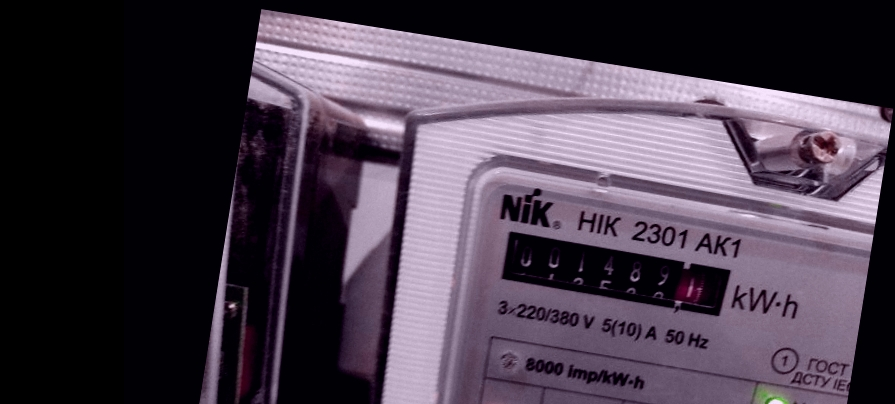0: (517, 241, 536, 268), (545, 241, 564, 268)
1: (573, 245, 591, 276), (682, 268, 699, 300)
4: (600, 250, 620, 278)
8: (625, 254, 646, 283)
9: (654, 261, 673, 288)
screen: (484, 217, 749, 332)
